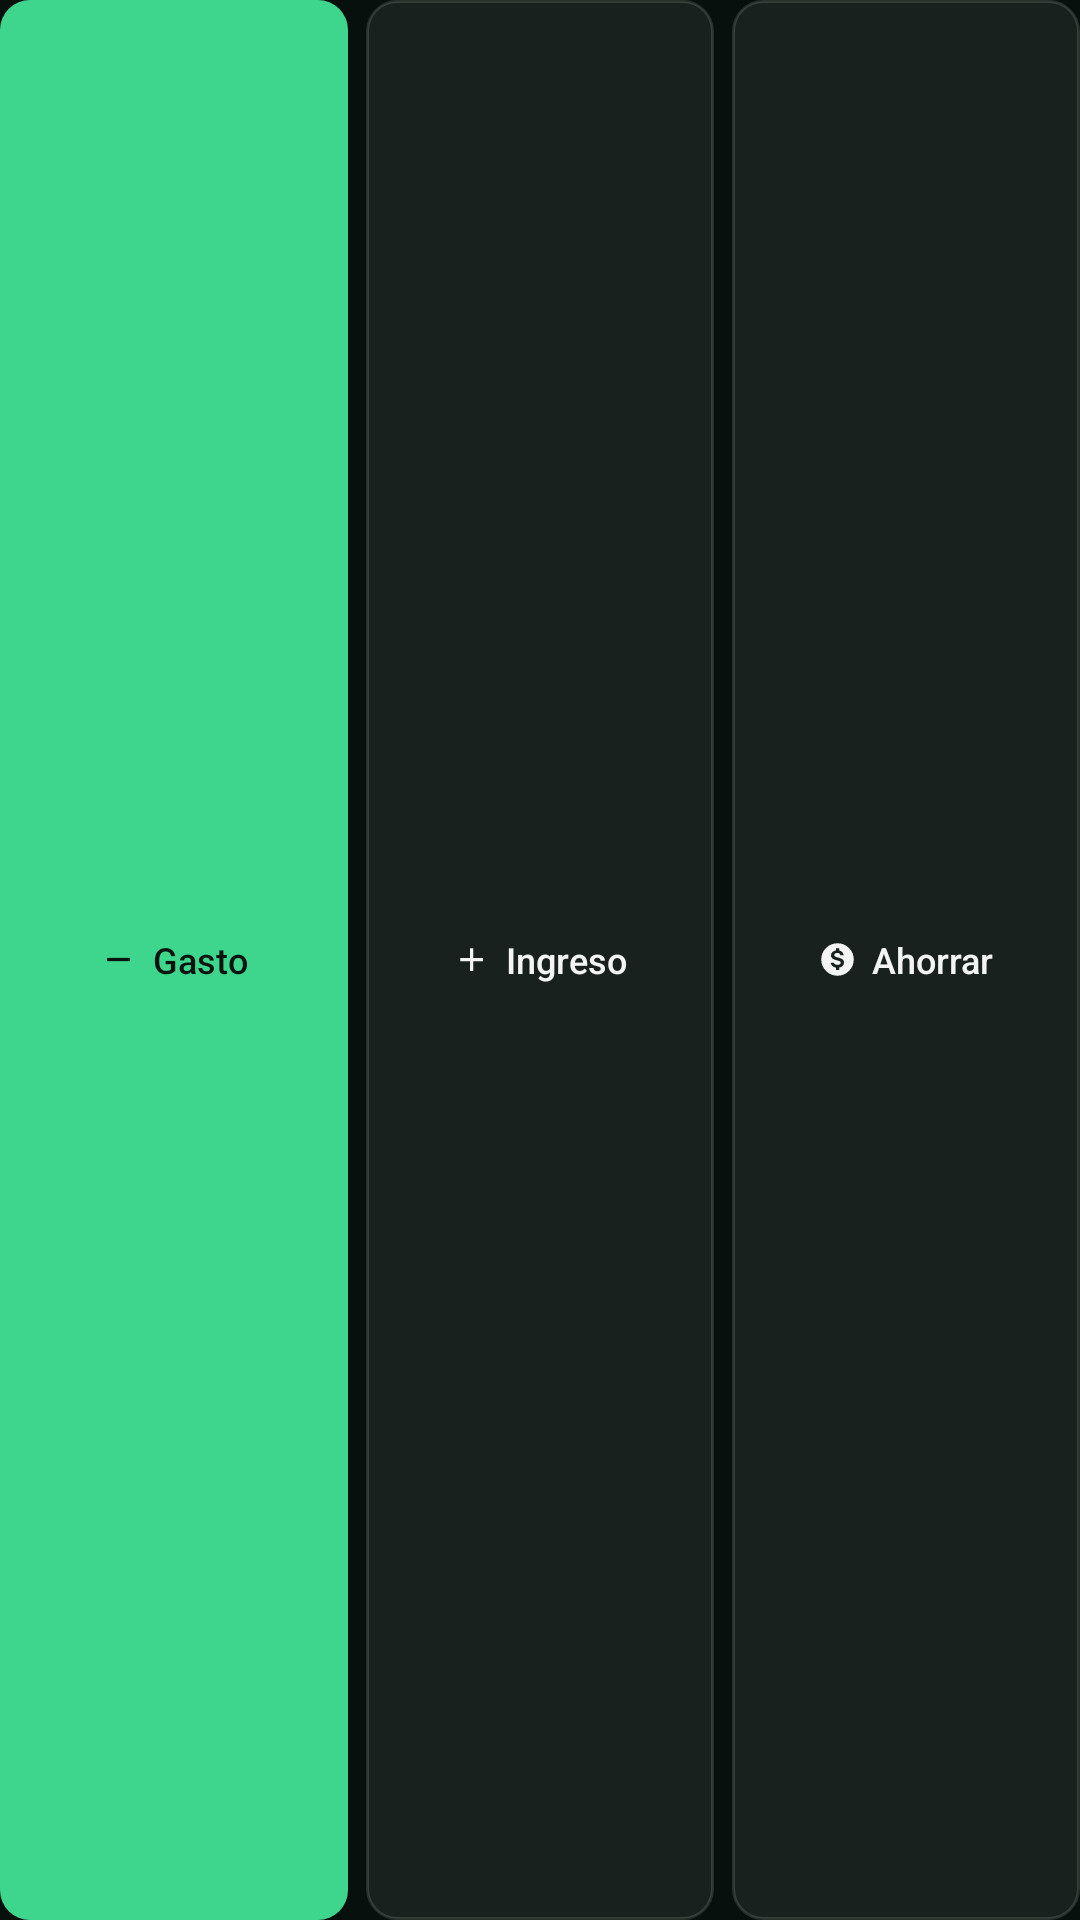

Named icons in this screenshot (1080 x 1920) and their bounding boxes, [x1, y1, x2, y2]:
widget coin: [821, 943, 854, 976]
